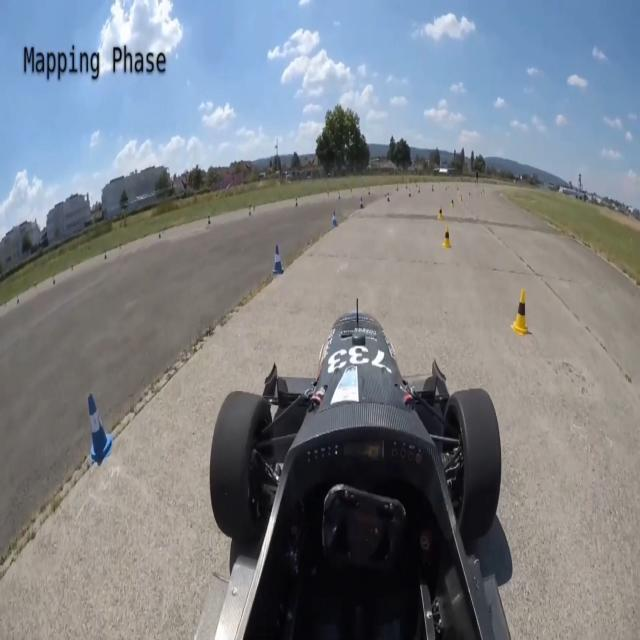blue_cone: (81, 389, 116, 469), (270, 243, 286, 280), (331, 209, 338, 229)
yellow_cone: (512, 284, 530, 338), (442, 225, 451, 249), (437, 205, 444, 221), (450, 198, 454, 208)
